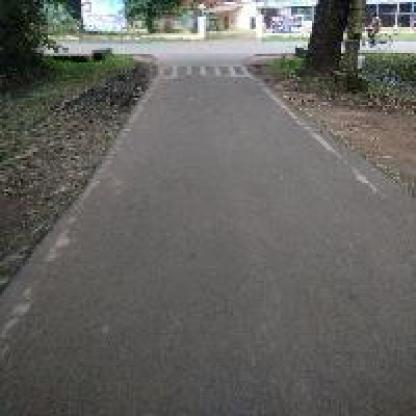Speed Bump: (156, 56, 254, 83)
